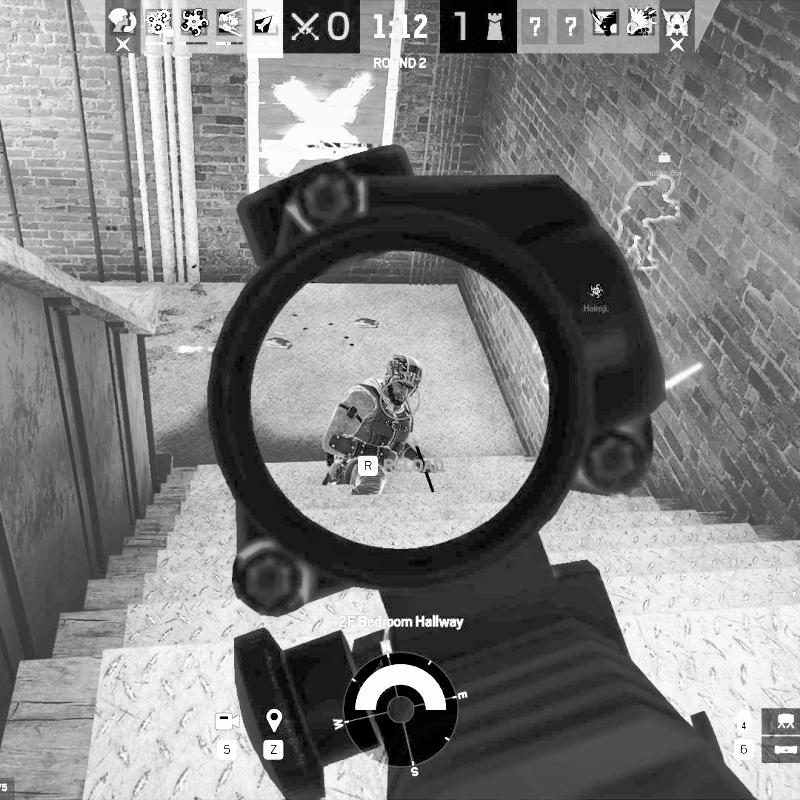Character: (320, 352, 427, 497)
Friend_label: (647, 150, 683, 177), (582, 283, 612, 313)
Head: (380, 353, 423, 405)
